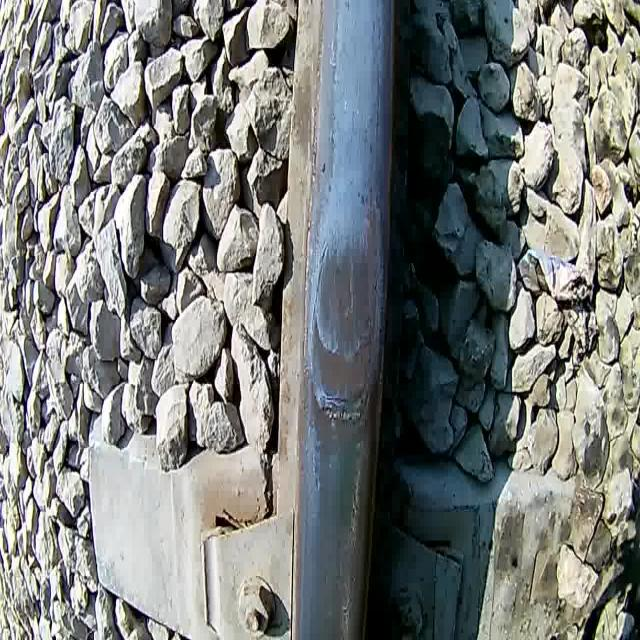Squats: (298, 180, 389, 464)
